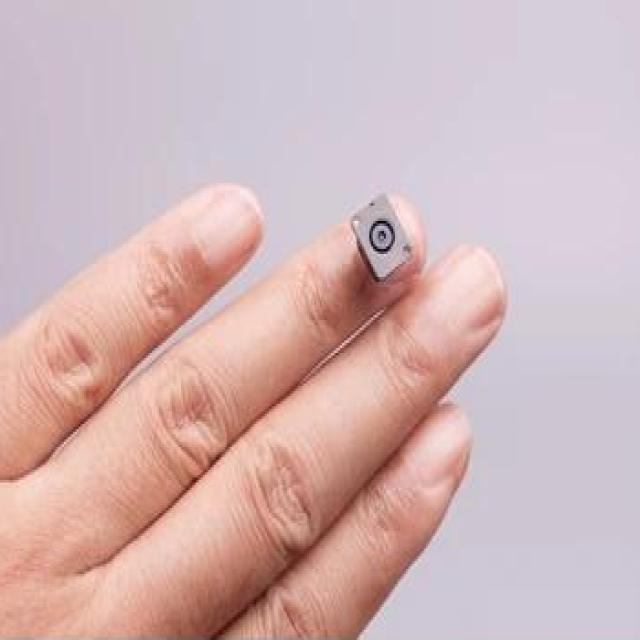hidden camera: (368, 216, 396, 259)
